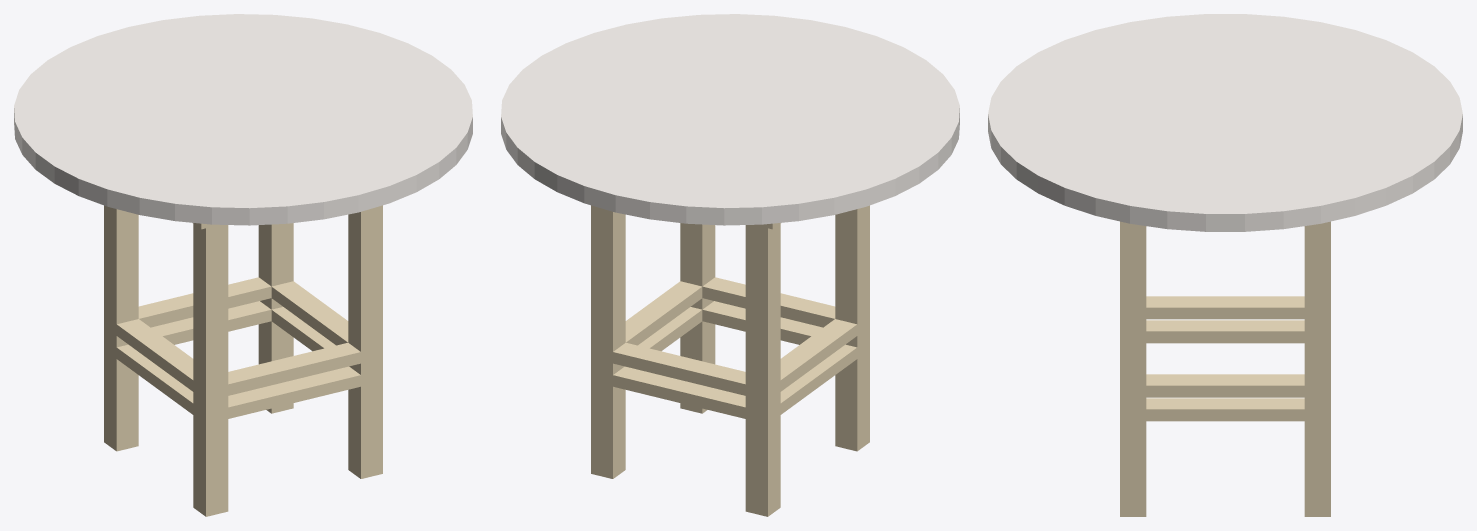
Rendered from table.glb.
The picture shows the model from 3 angles, left to right: view 1: azimuth 30°, elevation 25°; view 2: azimuth 150°, elevation 25°; view 3: azimuth 270°, elevation 25°; orthographic projection. The views are drawn at different scales.
Parts seen in each view (by area): view 1: Mesh_0; view 2: Mesh_0; view 3: Mesh_0.
Part boxes in pixels (left/top/right/bottom): Mesh_0: left=14, top=14, right=472, bottom=516; Mesh_0: left=501, top=14, right=959, bottom=516; Mesh_0: left=988, top=14, right=1462, bottom=516.
Size of the model in its own units: 0.9119 by 0.762 by 0.915.
